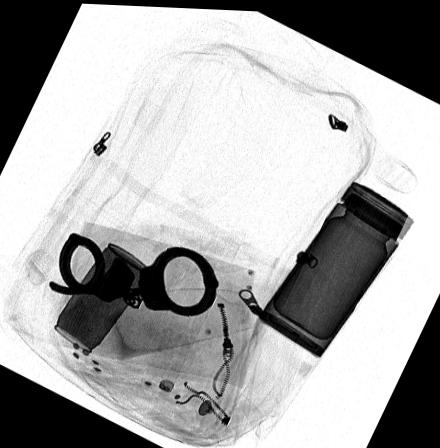HandCuffs: (49, 230, 218, 314)
